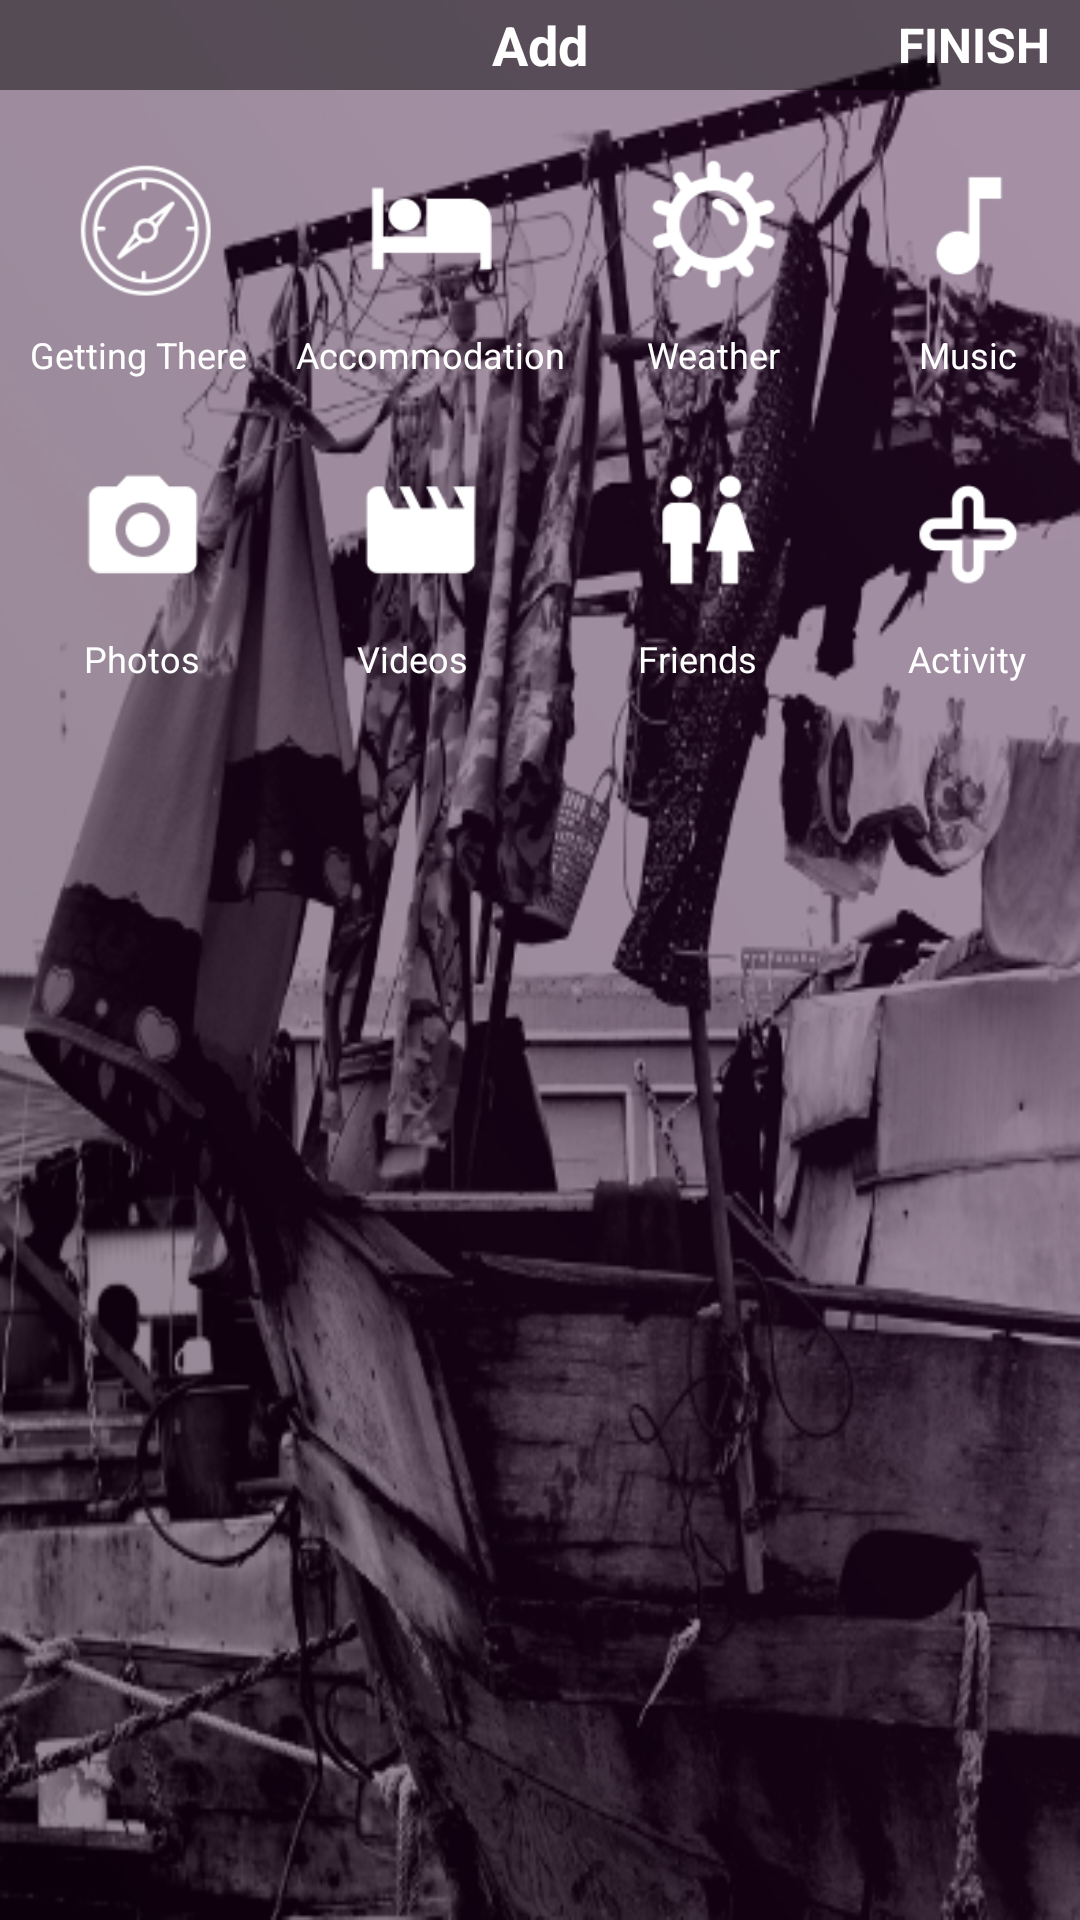

Icon click points for this 1080x1920 phone screenshot, format (x=x, y=y):
compass: (x=146, y=230)
plus: (x=967, y=529)
sun: (x=714, y=225)
